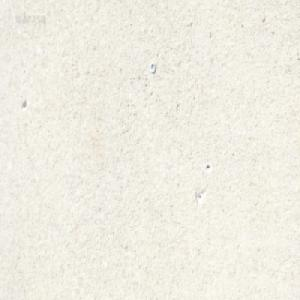Washer: (150, 61, 156, 73)
